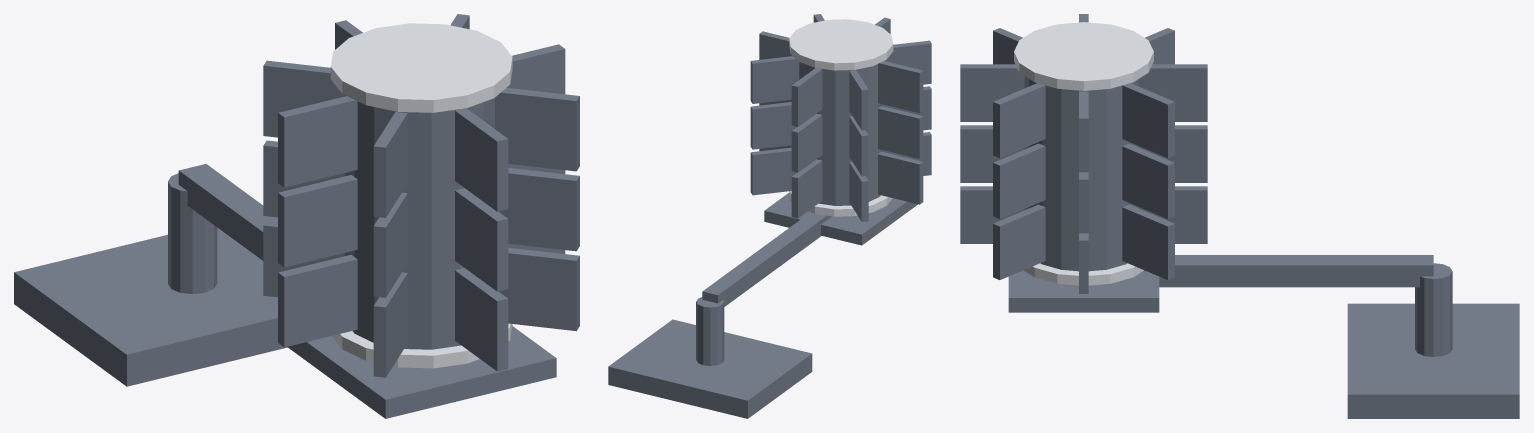
The model's file is Power_Nuclear.glb.
3 views of the same model, side by side, from view 1: azimuth 30°, elevation 25°; view 2: azimuth 150°, elevation 25°; view 3: azimuth 270°, elevation 25° (orthographic). The views are drawn at different scales.
Visible parts, largest first — view 1: Power_Nuclear; view 2: Power_Nuclear; view 3: Power_Nuclear.
Part boxes in pixels (box(x1,y1,x2,y2)): Power_Nuclear: box(14, 14, 579, 418); Power_Nuclear: box(608, 14, 931, 418); Power_Nuclear: box(960, 14, 1519, 418).
Bounding box in the file's own units: 0.46 × 0.66 × 1.04.
